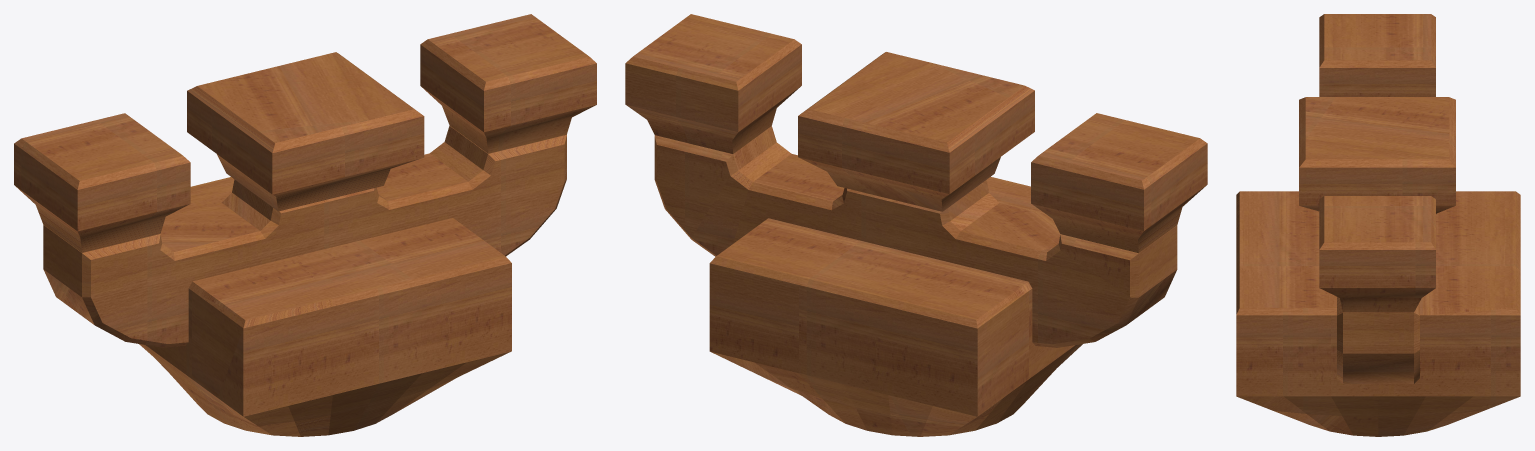
3 views of the same model, side by side, from view 1: azimuth 30°, elevation 25°; view 2: azimuth 150°, elevation 25°; view 3: azimuth 270°, elevation 25° (orthographic). The views are drawn at different scales.
Visible parts, largest first — view 1: R3L1; view 2: R3L1; view 3: R3L1.
Part boxes in pixels (left/top/right/bottom): R3L1: left=14, top=14, right=596, bottom=436; R3L1: left=625, top=14, right=1207, bottom=436; R3L1: left=1236, top=14, right=1520, bottom=436.
Bounding box in the file's own units: 30.58 × 16.51 × 15.8.
1 material, 1 textured.
